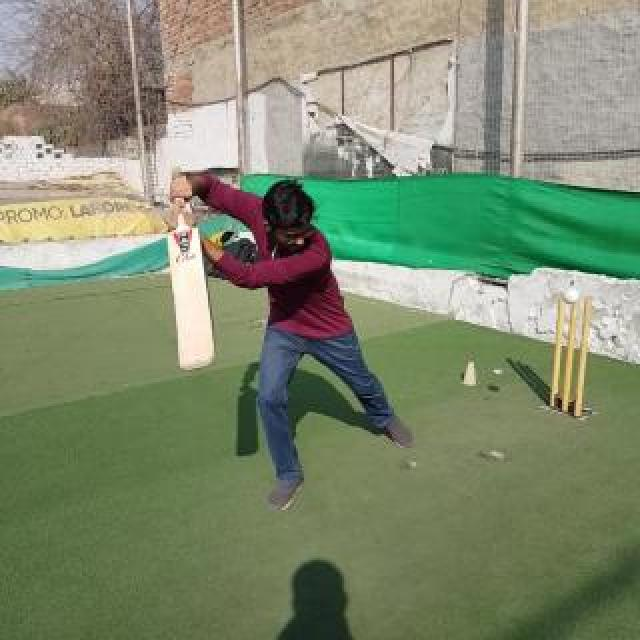bat: (166, 166, 216, 372)
